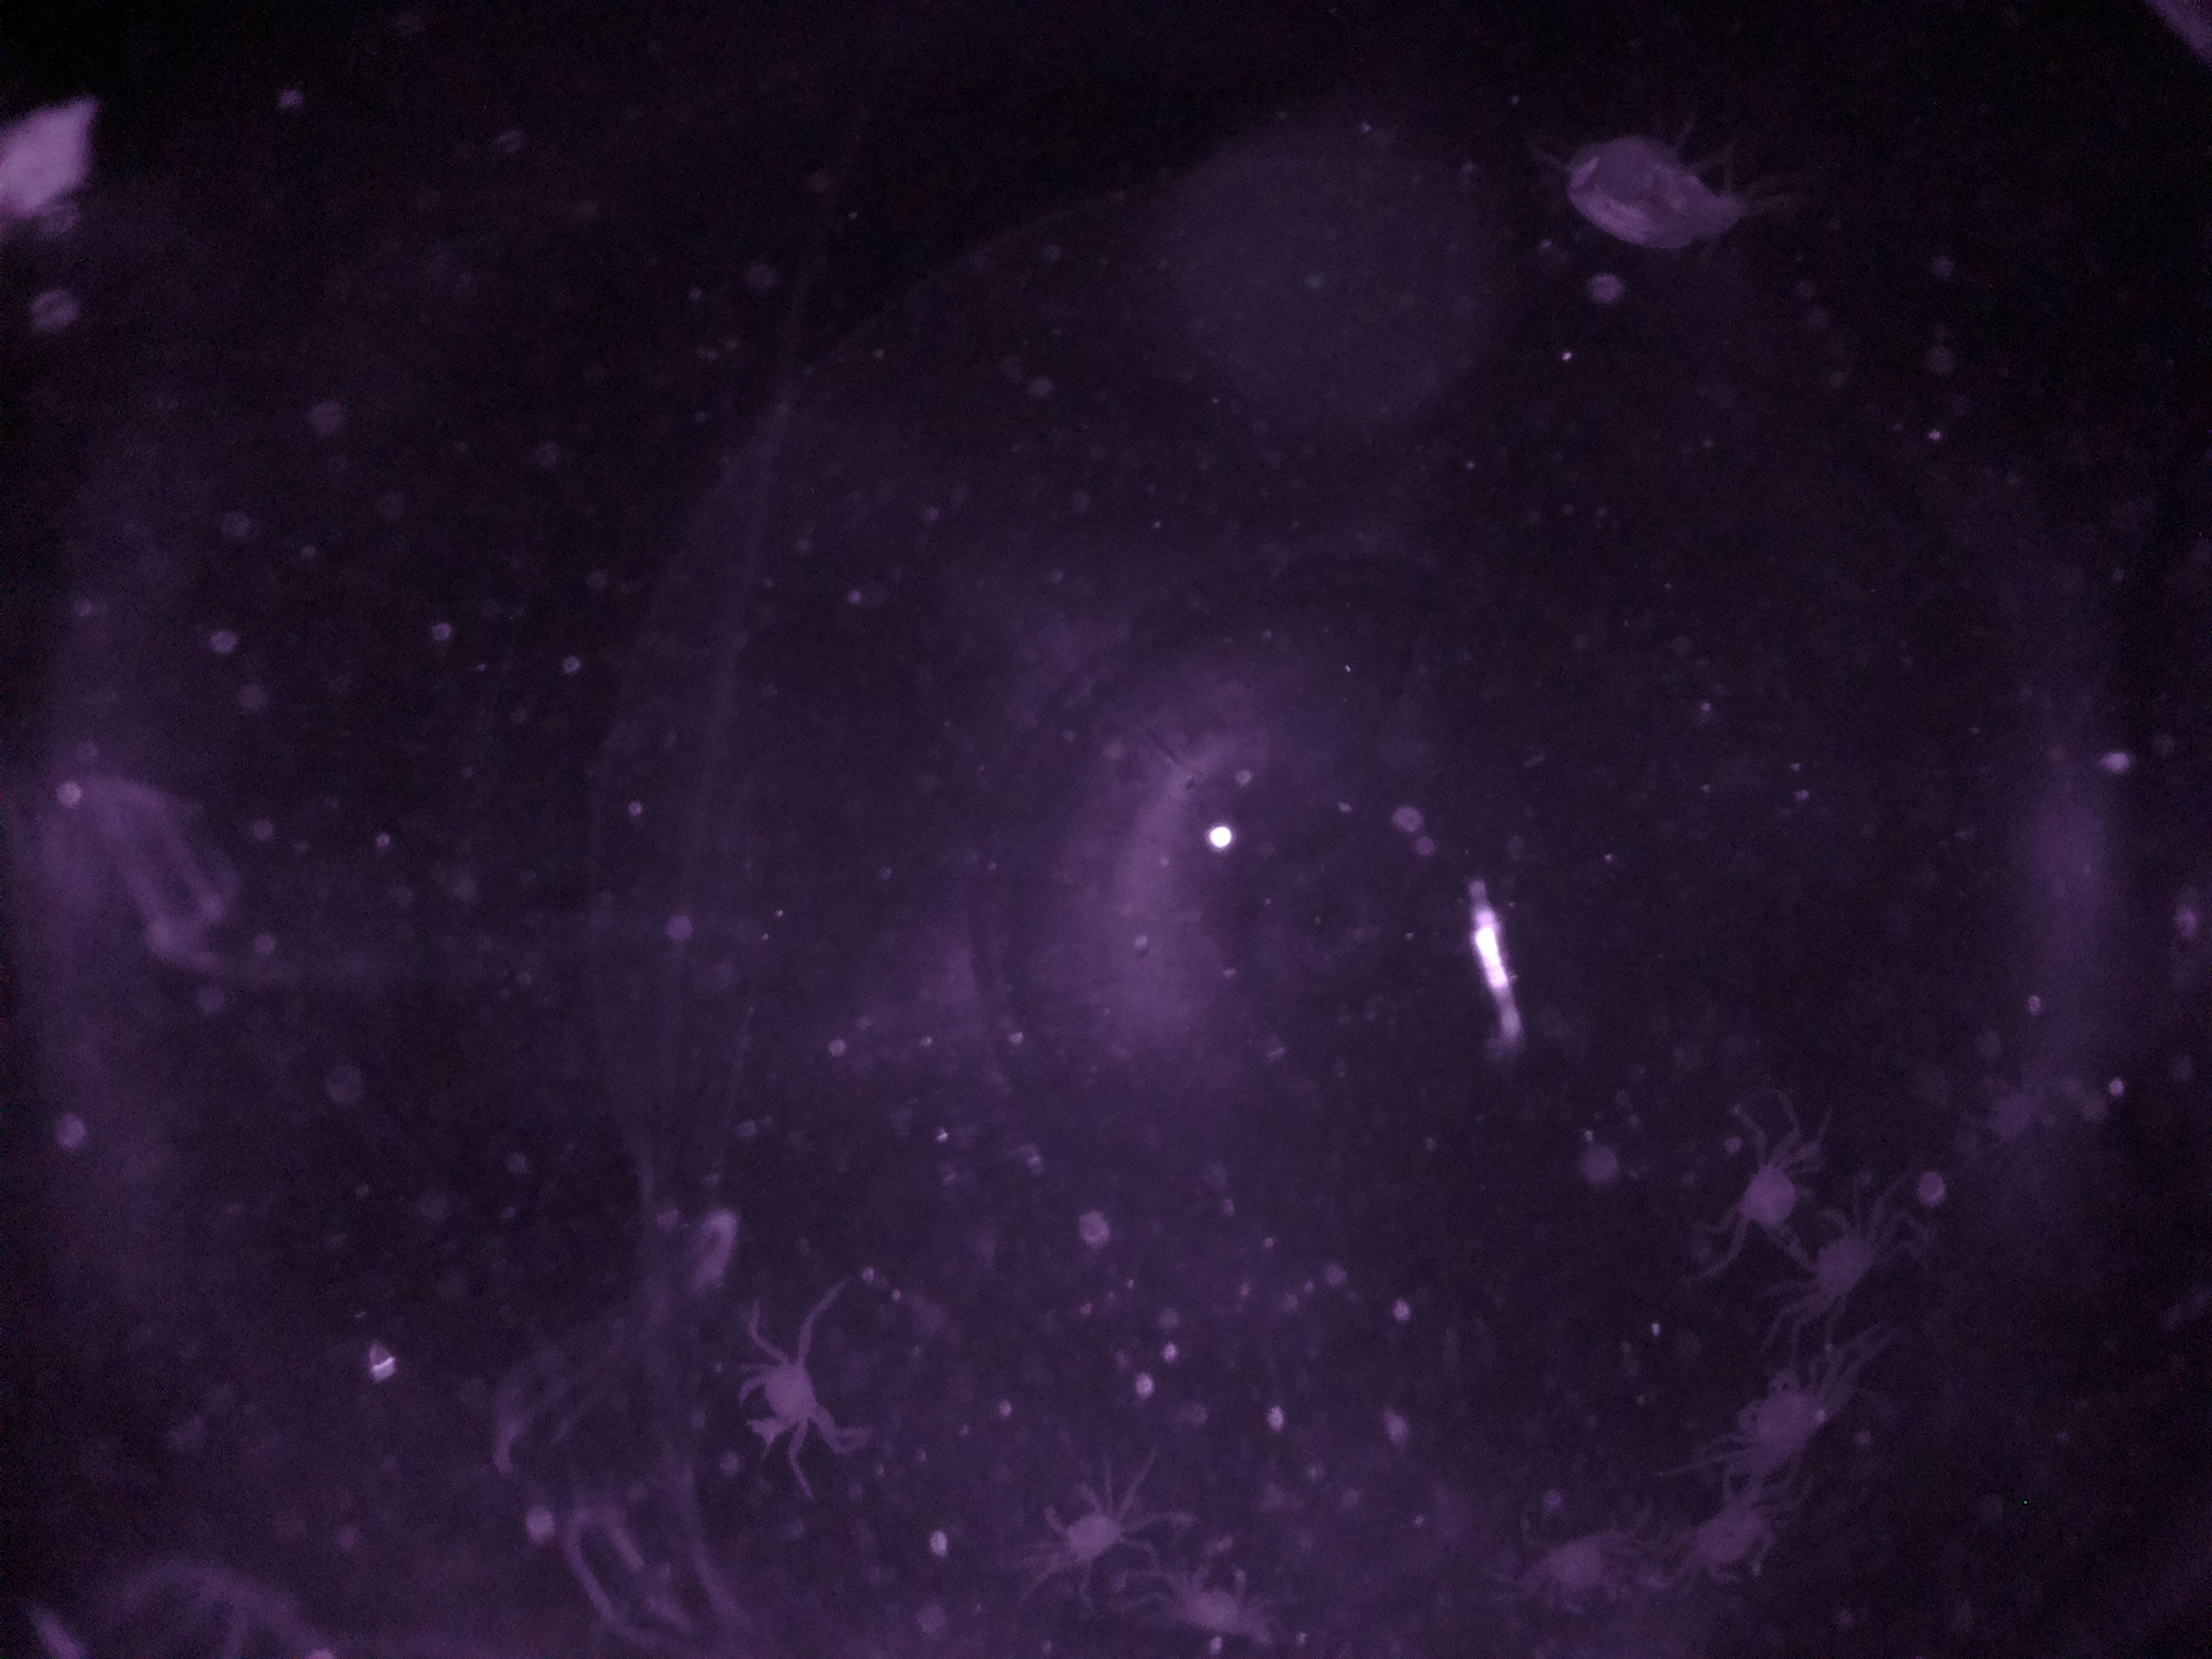Crab: (716, 1344, 845, 1462), (1672, 1483, 1792, 1596), (1785, 1195, 1890, 1323), (1724, 1352, 1827, 1478), (1707, 1140, 1818, 1255), (1165, 1540, 1273, 1645), (1529, 1516, 1627, 1628), (1038, 1473, 1127, 1586)
